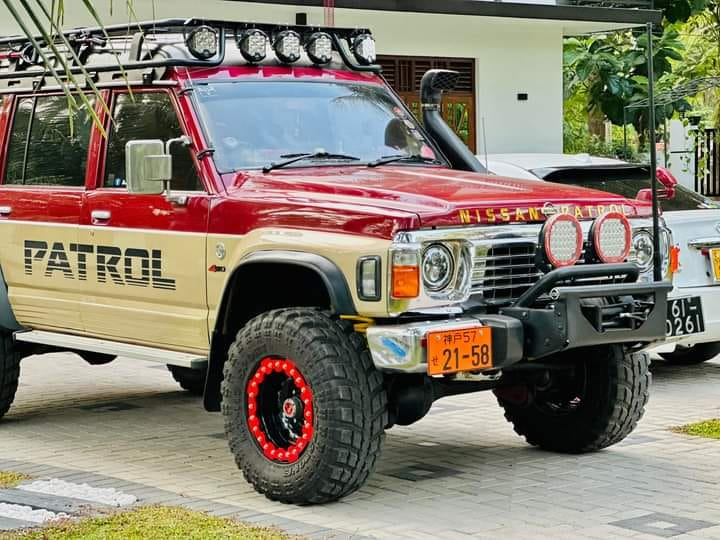number_plate: (429, 332, 491, 371)
